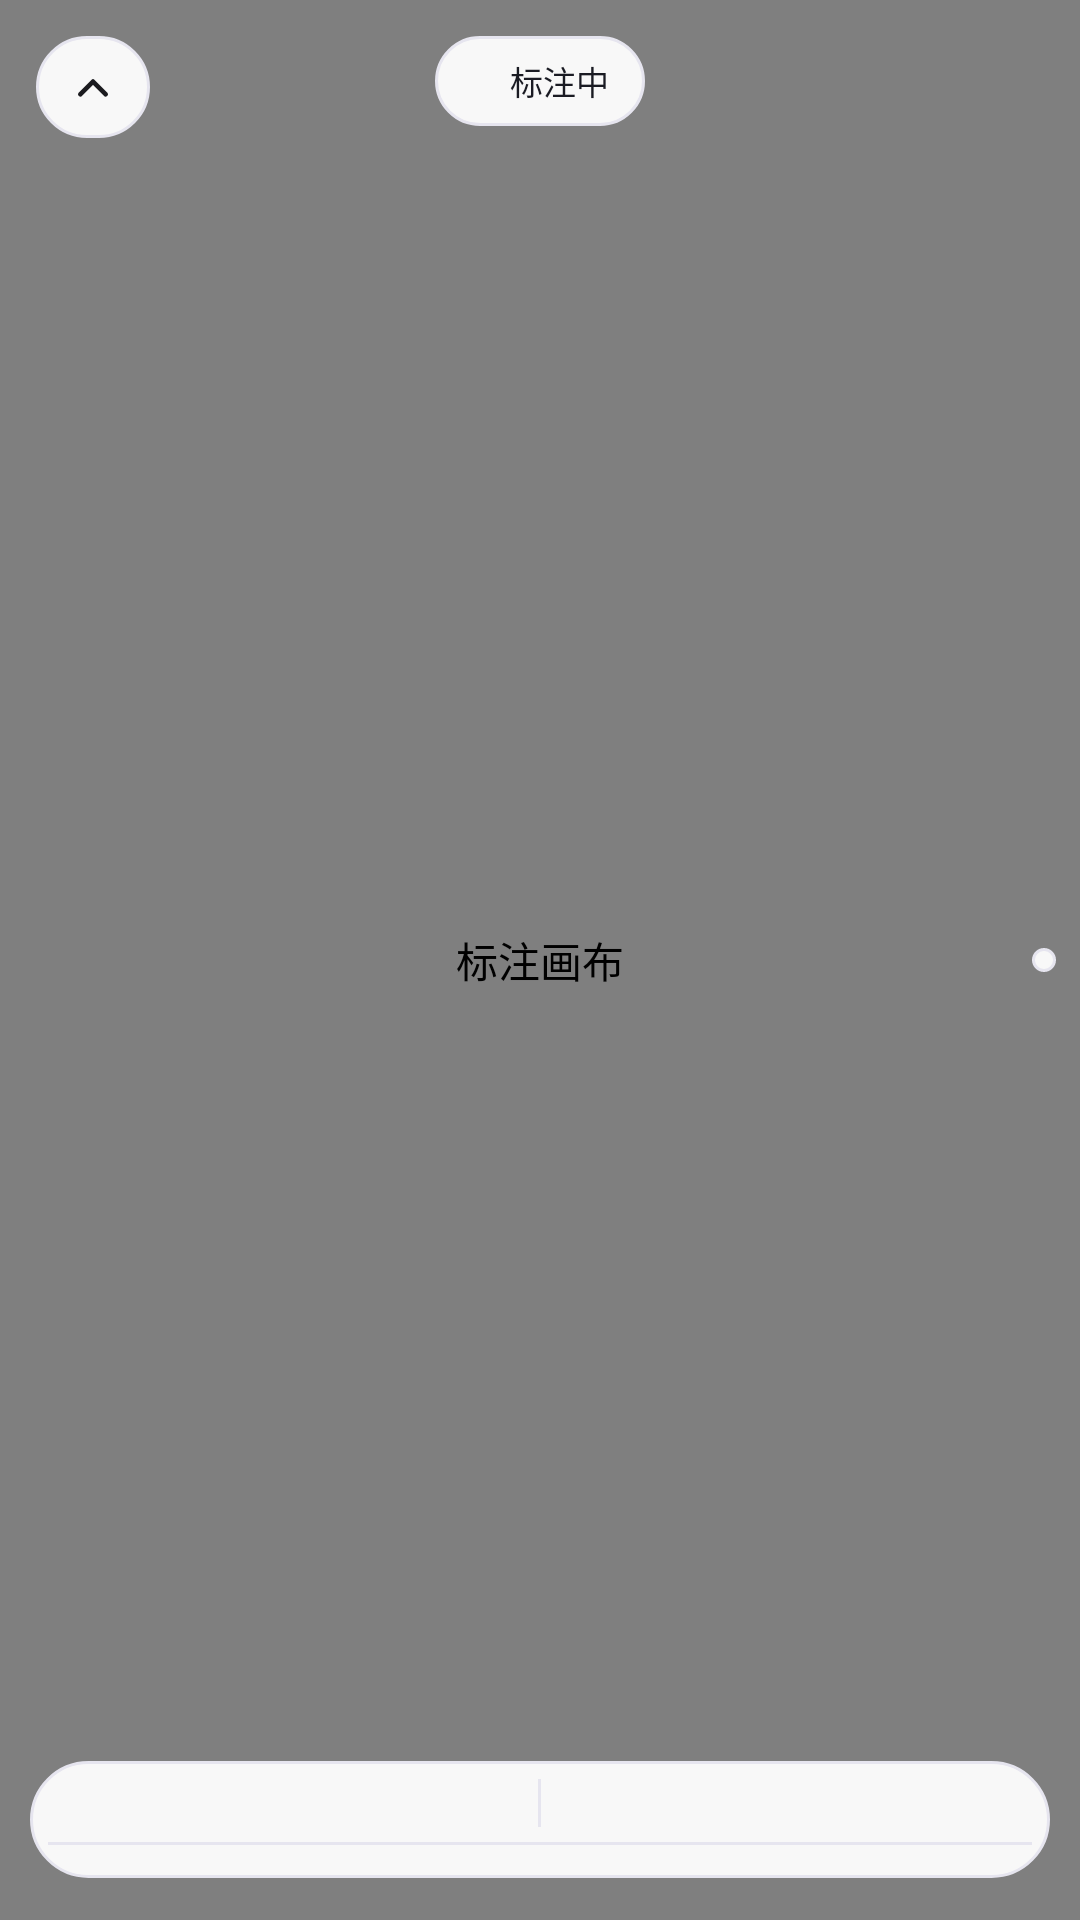

Where icons sit on this 1080x1920 app screen, as rect(x1, y1, x2, y2):
chevron: rect(78, 79, 108, 97)
